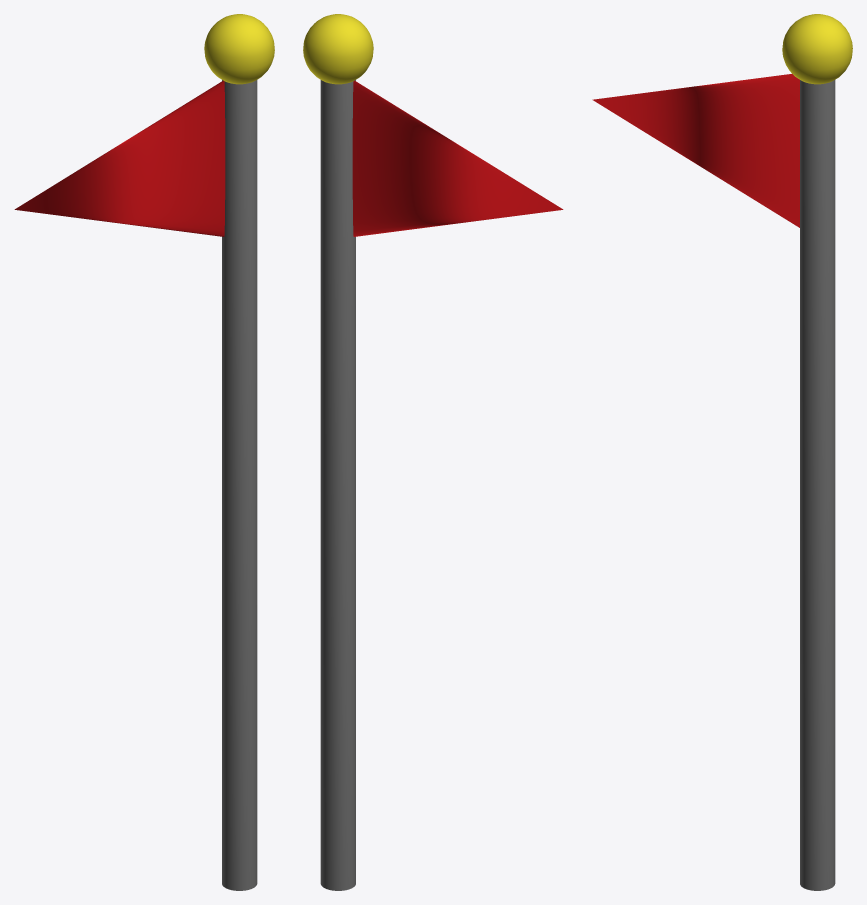
The model's file is Flag.fbx.
3 renders of one model, left to right at view 1: azimuth 30°, elevation 25°; view 2: azimuth 150°, elevation 25°; view 3: azimuth 330°, elevation 25°, orthographic.
Visible parts, largest first — view 1: ポール, 旗, ポールのてっぺん; view 2: ポール, 旗, ポールのてっぺん; view 3: ポール, 旗, ポールのてっぺん.
Boxes of the visible parts, <box> form: ポール: <box>222,80,257,890</box>; 旗: <box>14,80,225,236</box>; ポールのてっぺん: <box>204,14,274,84</box>; ポール: <box>320,80,355,890</box>; 旗: <box>352,80,563,236</box>; ポールのてっぺん: <box>303,14,373,84</box>; ポール: <box>800,80,835,890</box>; 旗: <box>592,74,799,227</box>; ポールのてっぺん: <box>782,14,852,84</box>.
Bounding box in the file's own units: 1.67 × 5.41 × 0.4.
